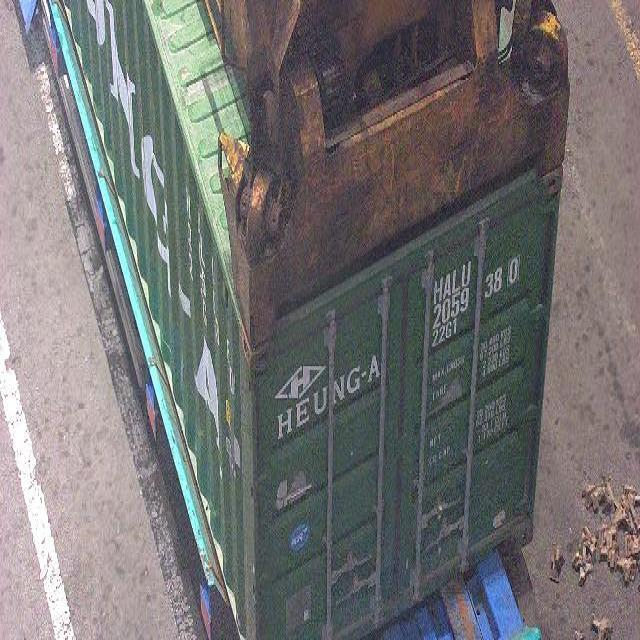ISO: (432, 319, 460, 353)
container_number: (433, 223, 524, 325)
